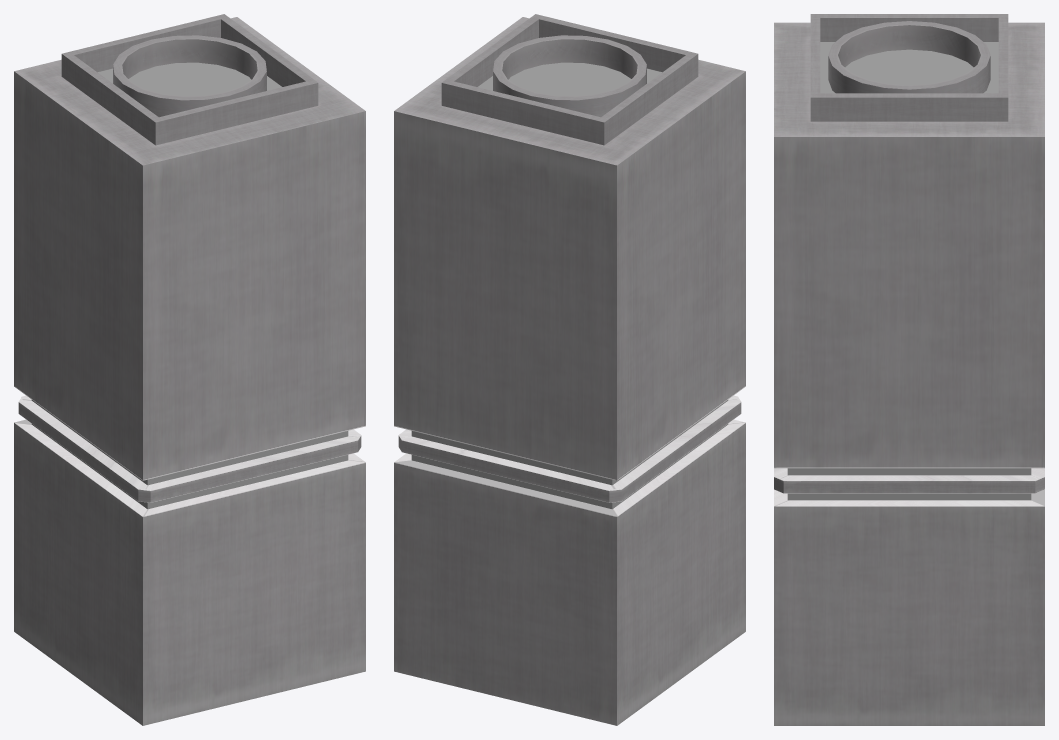
Rendered from Socket_Pedestal_Blue.fbx.
The picture shows the model from 3 angles, left to right: view 1: azimuth 30°, elevation 25°; view 2: azimuth 150°, elevation 25°; view 3: azimuth 270°, elevation 25°; orthographic projection. The views are drawn at different scales.
Parts seen in each view (by area): view 1: Socket_Pedestal; view 2: Socket_Pedestal; view 3: Socket_Pedestal.
Part boxes in pixels (x1,y1,x2,y2): Socket_Pedestal: [14, 14, 365, 725]; Socket_Pedestal: [394, 14, 745, 725]; Socket_Pedestal: [774, 14, 1044, 725].
Size of the model in its own units: 20 by 50 by 20.
2 materials, 1 textured.
